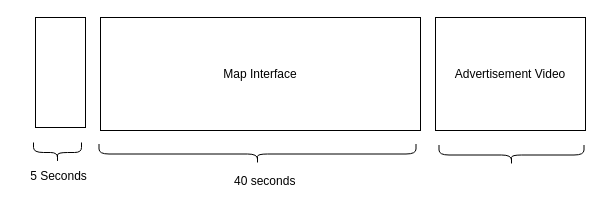
The diagram is 603 pixels wide and 209 high, and some of its shapes have lost their labels. Here are the shapes that lost their labels. From the top down, the centre of each, then its label:
the point at 60,72: Initial Interface
the point at 511,154: 20 Seconds
